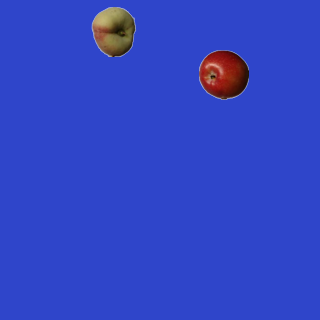Apple Braeburn: (198, 49, 248, 99)
Peach Flat: (88, 6, 138, 56)
